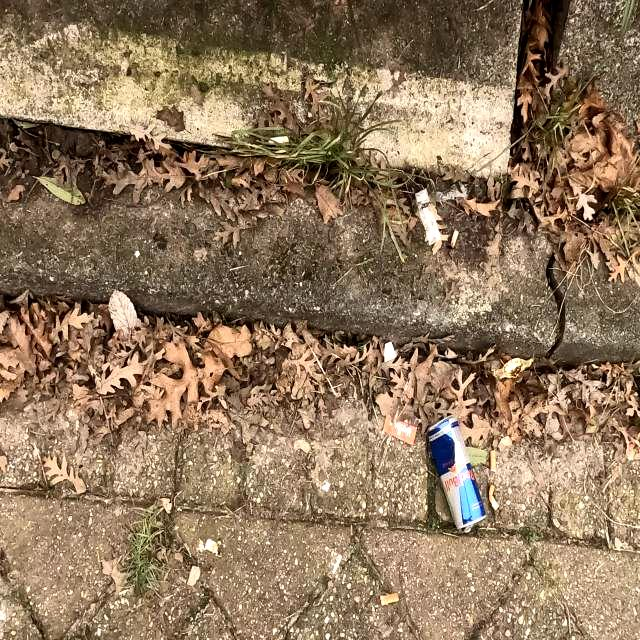Metal: (427, 412, 487, 534)
Plastic: (414, 188, 441, 246)
